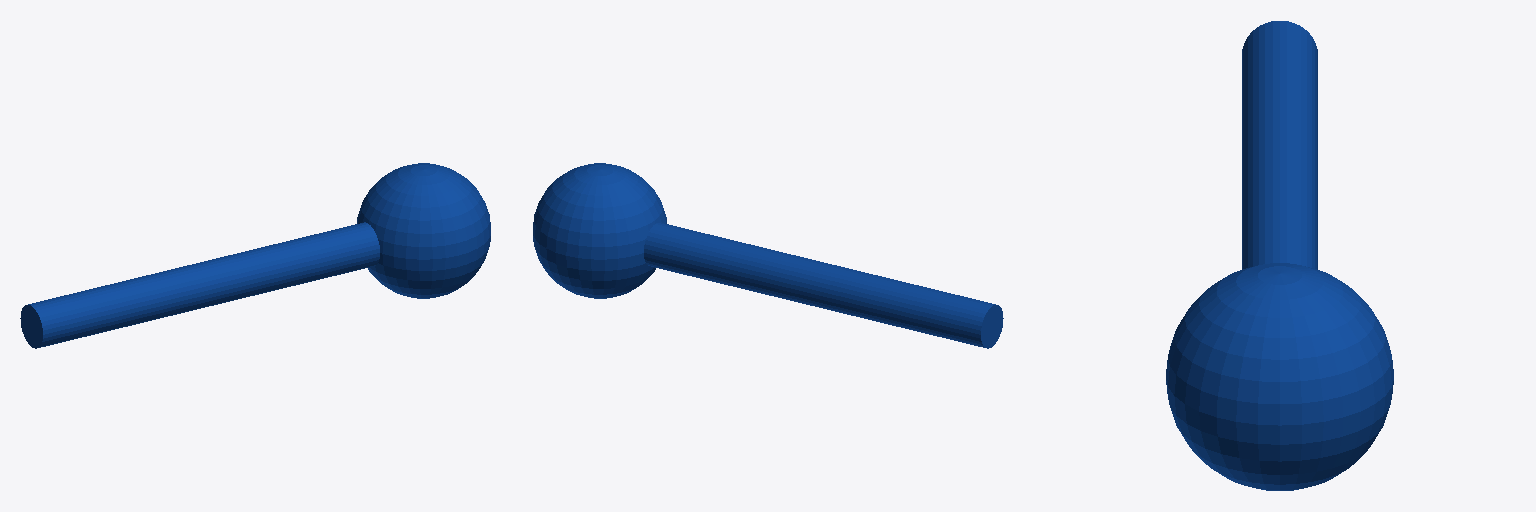
robot.urdf — platform:
<?xml version="1.0" ?>
<robot name="platform">

  <material name="industrial-blue">
    <color rgba="0.11372549019607843 0.34509803921568627 0.6549019607843137 1" />
  </material>

  <material name="arches-blue">
    <color rgba="0.0 0.6235294117647059 0.8313725490196079 1" />
  </material>

  <material name = "heritage-orange">
    <color rgba = "0.96078431 0.50980392 0.11764706 1" />
  </material>

  <link name="world"/>

  <link name="outer">
    <visual>
      <origin rpy="0 0 0" xyz="0 0 0"/>
      <geometry>
  			<mesh filename="cmg_outer.stl" scale="1.0 1.0 1.0"/>
      </geometry>
      <material name = "industrial-blue"/>
    </visual>
    <collision>
      <origin rpy="0 0 0" xyz="0 0 0"/>
      <geometry>
  			<mesh filename="cmg_outer.stl" scale="1.0 1.0 1.0"/>
      </geometry>
    </collision>
    <inertial>
      <origin rpy="0 0 0" xyz="0 0 0"/>
      <mass value="1.0"/>
      <inertia ixx="0.25" ixy="0" ixz="0" iyy="0.25" iyz="0" izz="0.5"/>
    </inertial>
  </link>

  <link name="inner">
    <visual>
      <origin rpy="0 0 0" xyz="0 0 0"/>
      <geometry>
  			<mesh filename="cmg_inner.stl" scale="1.0 1.0 1.0"/>
      </geometry>
      <material name = "arches-blue"/>
    </visual>
    <collision>
      <origin rpy="0 0 0" xyz="0 0 0"/>
      <geometry>
  			<mesh filename="cmg_inner.stl" scale="1.0 1.0 1.0"/>
      </geometry>
    </collision>
    <inertial>
      <origin rpy="0 0 0" xyz="0 0 0"/>
      <mass value="0.01"/>
      <inertia ixx="0.001" ixy="0" ixz="0" iyy="0.001" iyz="0" izz="0.001"/>
    </inertial>
  </link>

  <link name="wheel">
    <visual>
      <origin rpy="0 0 0" xyz="0 0 0"/>
      <geometry>
  			<mesh filename="cmg_wheel.stl" scale="1.0 1.0 1.0"/>
      </geometry>
      <material name = "heritage-orange"/>
    </visual>
    <collision>
      <origin rpy="0 0 0" xyz="0 0 0"/>
      <geometry>
  			<mesh filename="cmg_wheel.stl" scale="1.0 1.0 1.0"/>
      </geometry>
    </collision>
    <inertial>
      <origin rpy="0 0 0" xyz="0 0 0"/>
      <mass value="0.1"/>
      <inertia ixx="0.01" ixy="0" ixz="0" iyy="0.01" iyz="0" izz="0.01"/>
    </inertial>
  </link>

  <link name="spar">
    <visual>
      <origin rpy="0 0 0" xyz="0 0 0"/>
      <geometry>
  			<mesh filename="cmg_spar.stl" scale="1.0 1.0 1.0"/>
      </geometry>
      <material name = "industrial-blue"/>
    </visual>
    <collision>
      <origin rpy="0 0 0" xyz="0 0 0"/>
      <geometry>
  			<mesh filename="cmg_spar.stl" scale="1.0 1.0 1.0"/>
      </geometry>
    </collision>
    <inertial>
      <origin rpy="0 0 0" xyz="0 0 0"/>
      <mass value="0.0"/>
      <inertia ixx="0.0" ixy="0" ixz="0" iyy="0.0" iyz="0" izz="0.0"/>
    </inertial>
  </link>

  <link name="mass">
    <visual>
      <origin rpy="0 0 0" xyz="0 0 0"/>
      <geometry>
  			<mesh filename="cmg_mass.stl" scale="1.0 1.0 1.0"/>
      </geometry>
      <material name = "industrial-blue"/>
    </visual>
    <collision>
      <origin rpy="0 0 0" xyz="0 0 0"/>
      <geometry>
  			<mesh filename="cmg_mass.stl" scale="1.0 1.0 1.0"/>
      </geometry>
    </collision>
    <inertial>
      <origin rpy="0 0 0" xyz="0 0 0"/>
      <mass value="1."/>
      <inertia ixx="0.01" ixy="0" ixz="0" iyy="0.01" iyz="0" izz="0.01"/>
    </inertial>
  </link>

  <joint name="world_to_outer" type="continuous">
		<parent link = "world" />
		<child link = "outer" />
		<origin xyz = "0 0 0" />
		<axis xyz = "0 1 0" />
		<limit effort="1000" velocity="1000"/>
	</joint>

  <joint name="outer_to_inner" type="continuous">
		<parent link = "outer" />
		<child link = "inner" />
		<origin xyz = "0 0 0" />
		<axis xyz = "1 0 0" />
		<limit effort="1000" velocity="1000"/>
	</joint>

  <joint name="inner_to_wheel" type="continuous">
		<parent link = "inner" />
		<child link = "wheel" />
		<origin xyz = "0 0 0" />
		<axis xyz = "0 0 1" />
		<limit effort="1000" velocity="1000"/>
	</joint>

  <joint name="outer_to_spar" type="fixed">
		<parent link = "outer" />
		<child link = "spar" />
		<origin xyz = "1.5 0 0" />
	</joint>

  <joint name="spar_to_mass" type="fixed">
		<parent link = "spar" />
		<child link = "mass" />
		<origin xyz = "0.5 0 0" />
	</joint>



</robot>

--- Render facts (derived) ---
3 views of the same robot in one strip: view 1: azimuth 30°, elevation 25°; view 2: azimuth 150°, elevation 25°; view 3: azimuth 270°, elevation 25° (orthographic).
Model platform with 6 links and 5 joints (3 continuous, 2 fixed), rooted at world, posed all joints at 0.
Visible links, largest first — view 1: spar, mass; view 2: spar, mass; view 3: mass, spar.
Link boxes in pixels (<box>): spar: <box>20,222,379,348</box>; mass: <box>357,163,490,298</box>; spar: <box>644,222,1003,348</box>; mass: <box>533,163,666,298</box>; mass: <box>1166,263,1393,490</box>; spar: <box>1242,21,1317,269</box>.
Size in the robot's own frame: 1.15 by 0.3 by 0.3 metres.
Meshes: 5 distinct files referenced, 2 mesh visuals loaded (2 binary STL); not drawn: 3 (reference not matched to a file when rendering).